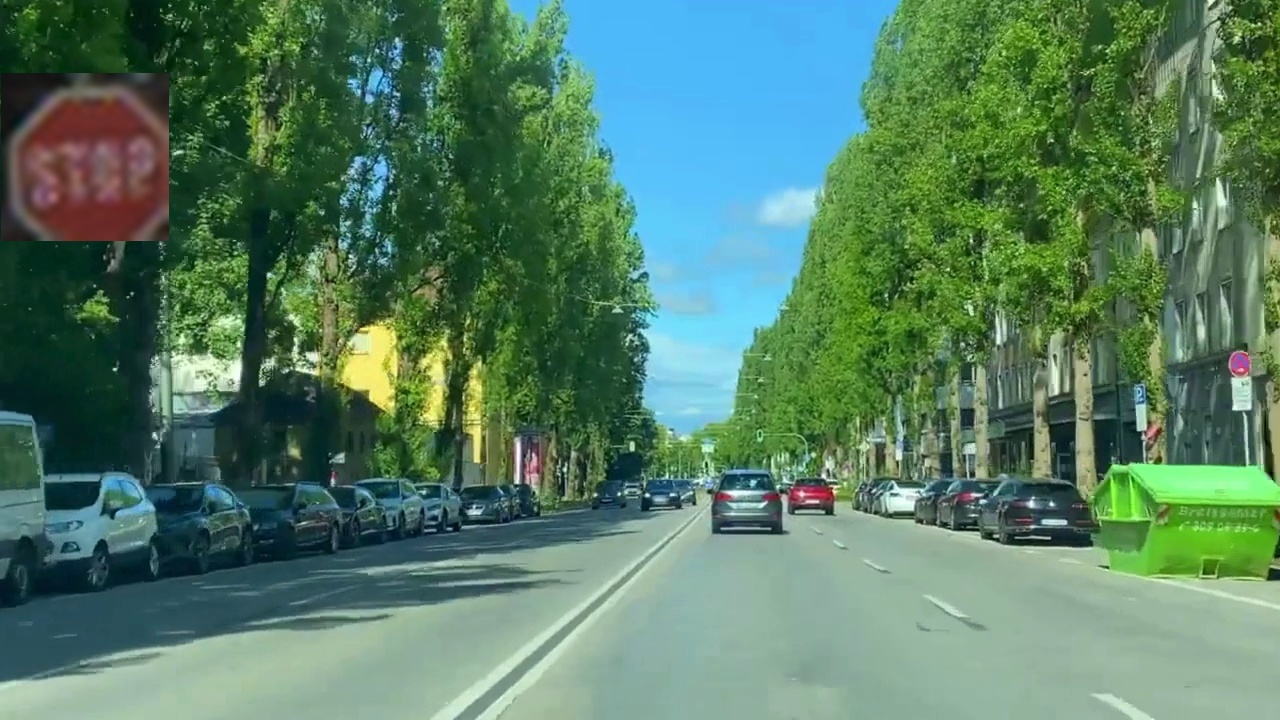Stop: (1, 73, 169, 241)
